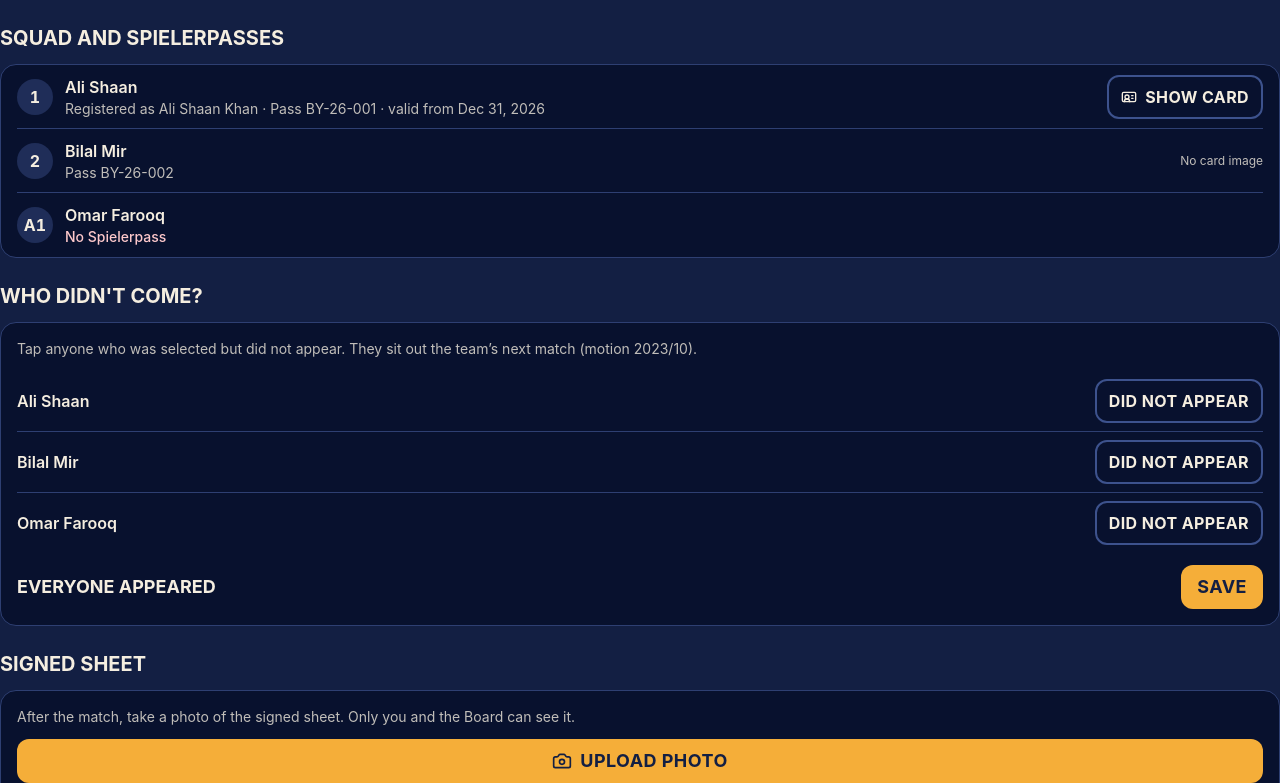
Scenario: recording no-shows › says why recording failed
(page scrolled)
Click the button "Save": click(1222, 587) [1181,565,1263,609]
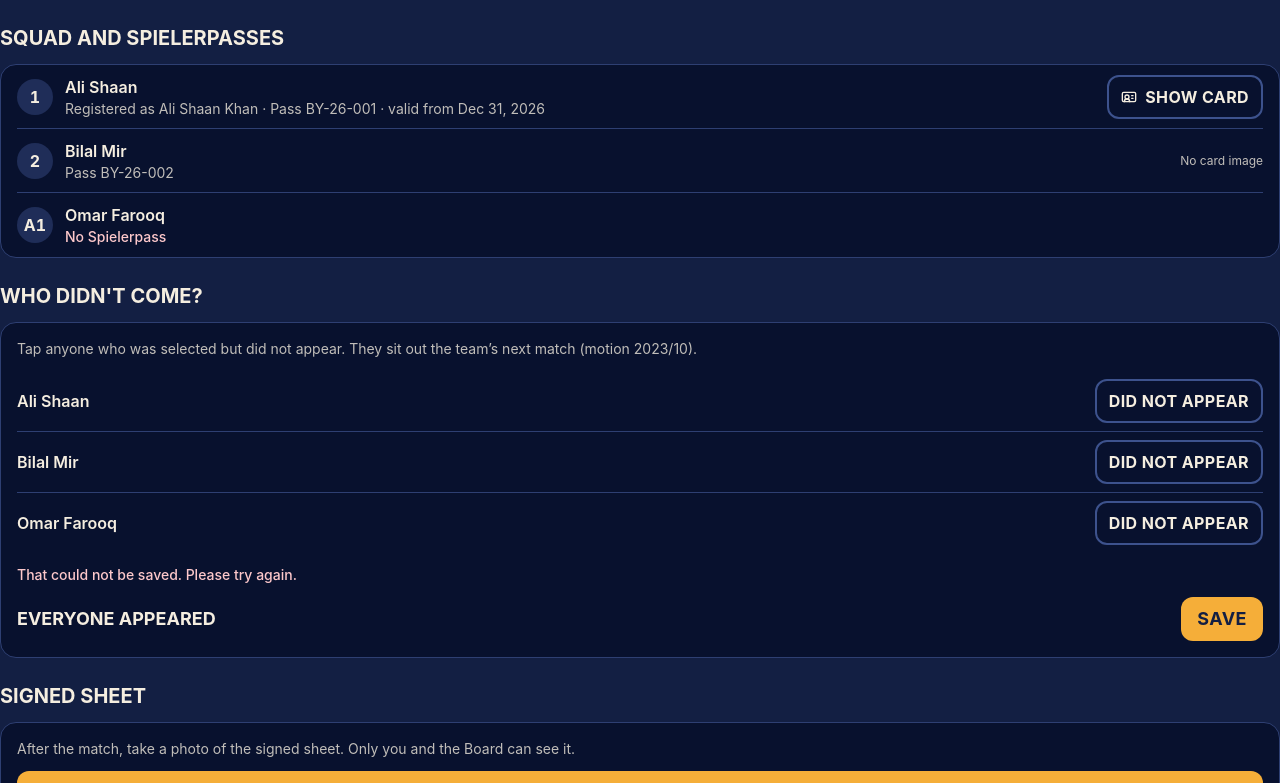
Result: the message shows "That could not be saved." at [17,566,297,583]
